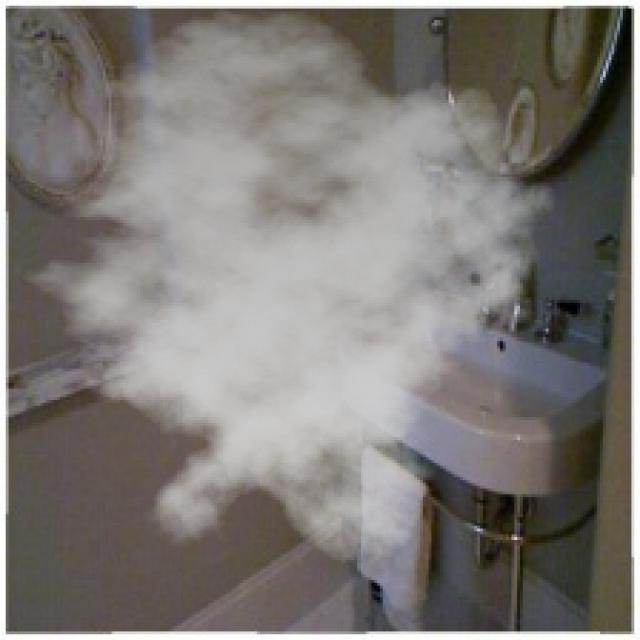Smoke: (0, 8, 569, 566)
